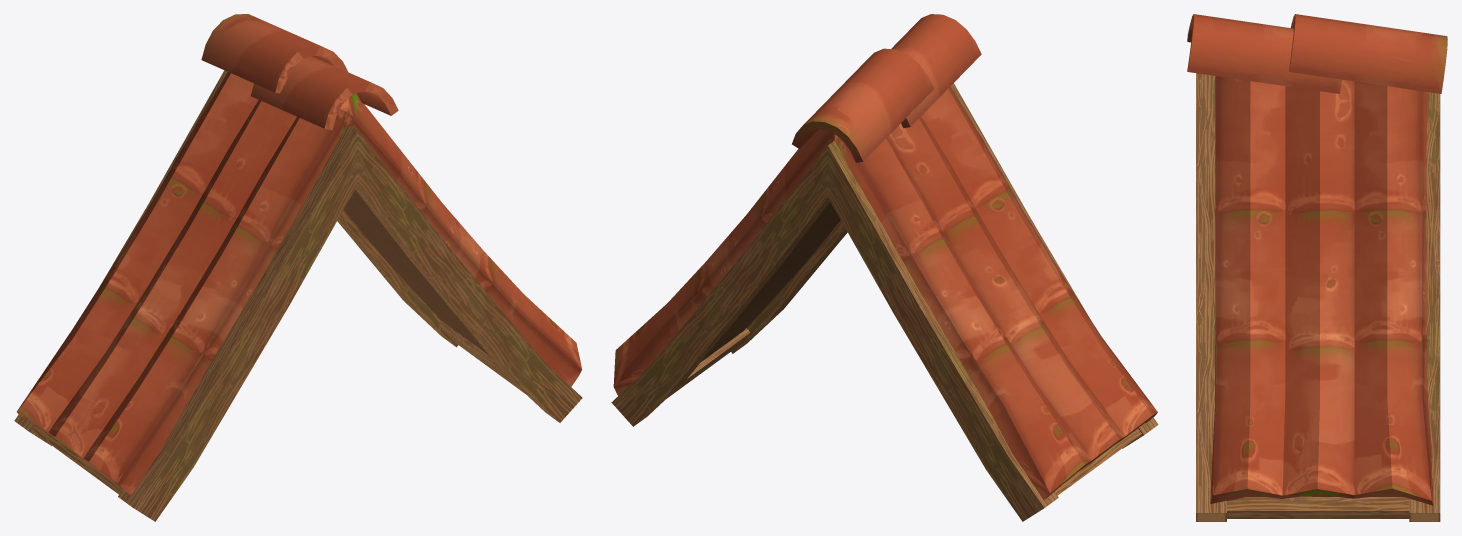
The model's file is Roof_RoundTile_2x1_Long.gltf.
The picture shows the model from 3 angles, left to right: view 1: azimuth 30°, elevation 25°; view 2: azimuth 150°, elevation 25°; view 3: azimuth 270°, elevation 25°; orthographic projection. The views are drawn at different scales.
Visible parts, largest first — view 1: Roof_RoundTile_2x1_Long; view 2: Roof_RoundTile_2x1_Long; view 3: Roof_RoundTile_2x1_Long.
Part boxes in pixels (box(x1,y1,x2,y2)): Roof_RoundTile_2x1_Long: box(14, 14, 582, 521); Roof_RoundTile_2x1_Long: box(611, 14, 1158, 521); Roof_RoundTile_2x1_Long: box(1187, 14, 1447, 521).
Size of the model in its own units: 4.35 by 3.33 by 1.95.
2 materials, 2 textured.
